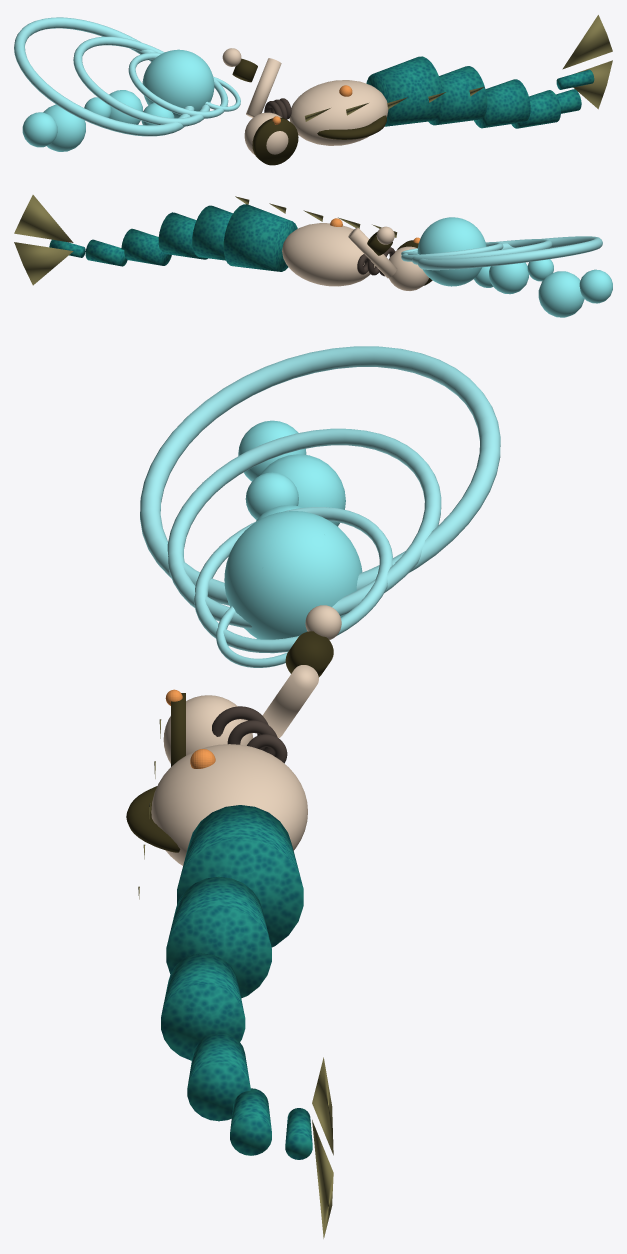
File: 01_adapa_nadando_disparo_bolhas.obj
The picture shows the model from 3 angles, top to bottom: view 1: azimuth 30°, elevation 25°; view 2: azimuth 150°, elevation 25°; view 3: azimuth 270°, elevation 25°; orthographic projection. The views are drawn at different scales.
Parts seen in each view (by area): view 1: Sphere.004, Torus.007, Cone, Icosphere, Cone.001, Torus.006, Cone.002, Cylinder, Torus.005, Sphere.010, Cone.006, Cone.003 (+13 smaller); view 2: Sphere.004, Cone, Icosphere, Torus.007, Sphere.010, Cone.001, Cone.002, Cone.006, Cone.007, Cone.003, Sphere, Sphere.008 (+11 smaller); view 3: Torus.007, Icosphere, Sphere.004, Cone, Torus.006, Cone.001, Cone.002, Torus.005, Cone.003, Sphere.010, Sphere, Cone.004 (+7 smaller).
Part boxes in pixels (left/top/right/bottom): Sphere.004: left=289, top=80, right=388, bottom=145; Torus.007: left=14, top=17, right=194, bottom=136; Cone: left=366, top=56, right=443, bottom=126; Icosphere: left=142, top=49, right=214, bottom=118; Cone.001: left=428, top=66, right=487, bottom=125; Torus.006: left=73, top=36, right=210, bottom=126; Cone.002: left=474, top=79, right=530, bottom=128; Cylinder: left=252, top=117, right=298, bottom=165; Torus.005: left=128, top=52, right=228, bottom=118; Sphere.010: left=43, top=104, right=85, bottom=151; Cone.006: left=562, top=15, right=612, bottom=69; Cone.003: left=511, top=90, right=560, bottom=128; Sphere.004: left=282, top=223, right=375, bottom=286; Cone: left=223, top=204, right=297, bottom=271; Icosphere: left=417, top=217, right=486, bottom=286; Torus.007: left=417, top=236, right=602, bottom=270; Sphere.010: left=538, top=271, right=584, bottom=317; Cone.001: left=192, top=205, right=232, bottom=260; Cone.002: left=158, top=212, right=207, bottom=259; Cone.006: left=14, top=195, right=73, bottom=242; Cone.007: left=14, top=242, right=73, bottom=285; Cone.003: left=121, top=228, right=171, bottom=265; Sphere: left=389, top=246, right=428, bottom=290; Sphere.008: left=489, top=262, right=528, bottom=294; Torus.007: left=140, top=346, right=500, bottom=605; Icosphere: left=224, top=511, right=362, bottom=639; Sphere.004: left=151, top=744, right=307, bottom=865; Cone: left=177, top=805, right=303, bottom=947; Torus.006: left=167, top=428, right=441, bottom=628; Cone.001: left=166, top=876, right=271, bottom=998; Cone.002: left=161, top=953, right=245, bottom=1060; Torus.005: left=194, top=507, right=392, bottom=653; Cone.003: left=187, top=1033, right=250, bottom=1121; Sphere.010: left=260, top=454, right=345, bottom=526; Sphere: left=163, top=695, right=252, bottom=763; Cone.004: left=230, top=1088, right=271, bottom=1155.
Bounding box in the file's own units: 12.59 × 3.79 × 3.51.
37 materials, 37 textured.
